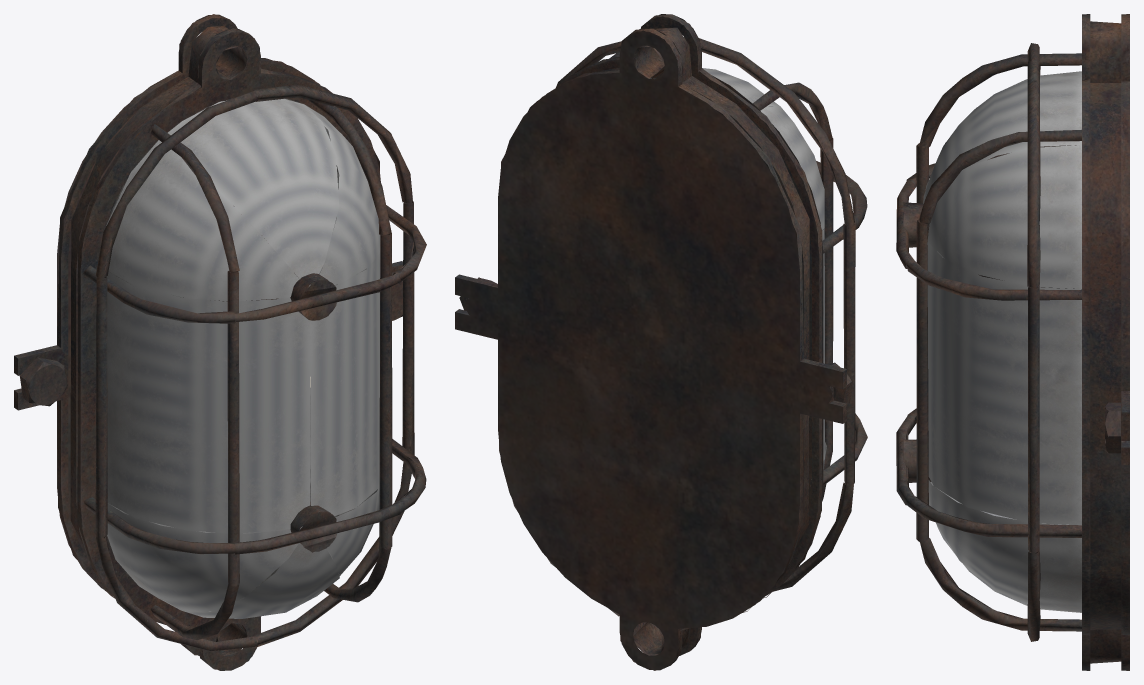
Rendered from industrial_wall_lamp.fbx.
3 views of the same model, side by side, from view 1: azimuth 30°, elevation 25°; view 2: azimuth 150°, elevation 25°; view 3: azimuth 270°, elevation 25° (orthographic).
Parts seen in each view (by area): view 1: industrial_wall_lamp; view 2: industrial_wall_lamp; view 3: industrial_wall_lamp.
Part boxes in pixels (x1,y1,x2,y2): industrial_wall_lamp: (14,14,426,670); industrial_wall_lamp: (455,14,867,670); industrial_wall_lamp: (896,14,1129,670).
Bounding box in the file's own units: 27.37 × 42.99 × 14.01.
2 materials, 2 textured.
